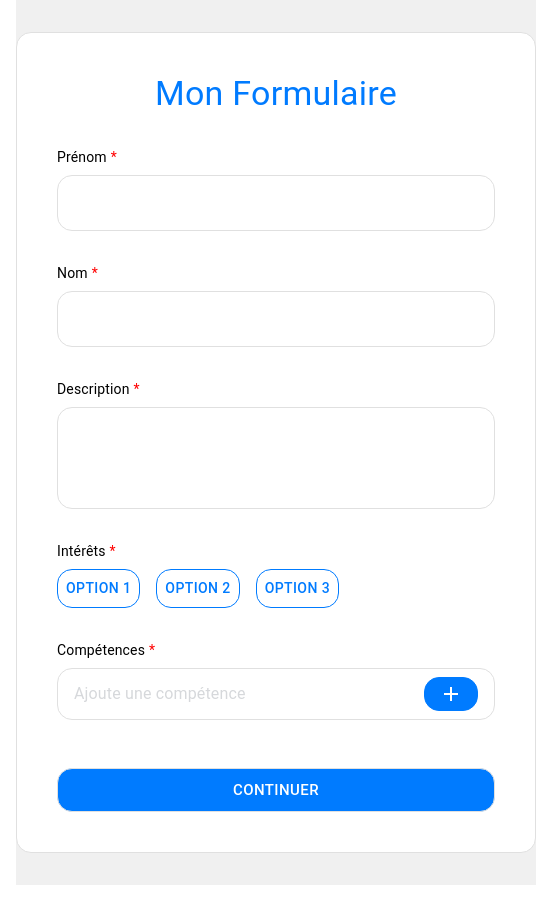
Scenario: OnboardingForm › shows validation errors when submitting empty form
The image size is (553, 900).
What coordinates should you click on to do the following:
click the button "Continuer"
I would click on:
 (276, 790)
Its box is [57,768,495,812].
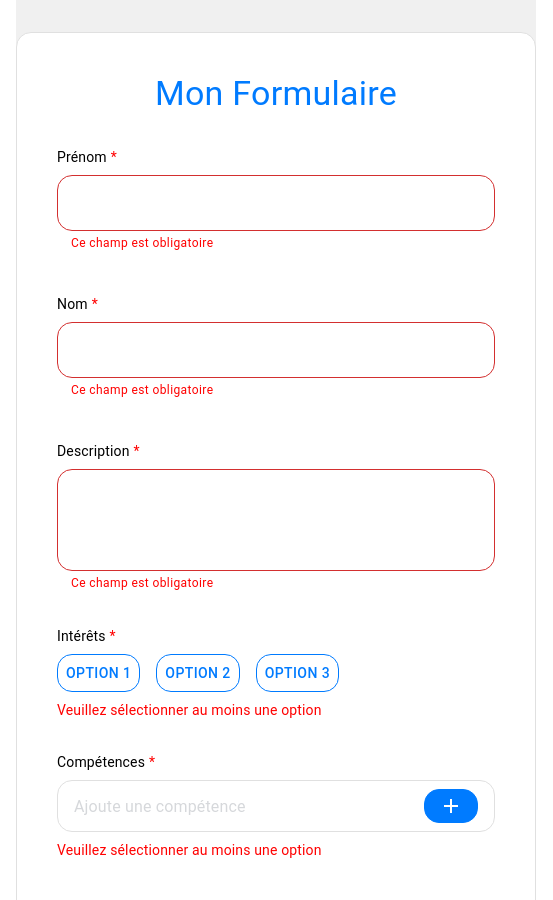
Expected: the text "Ce champ est obligatoire" is shown 3 times, [71,236,213,250]; [71,383,213,397]; [71,576,213,590]
Expected: the text "Veuillez sélectionner au moins une option" is shown 2 times, [57,702,322,718]; [57,842,322,858]
